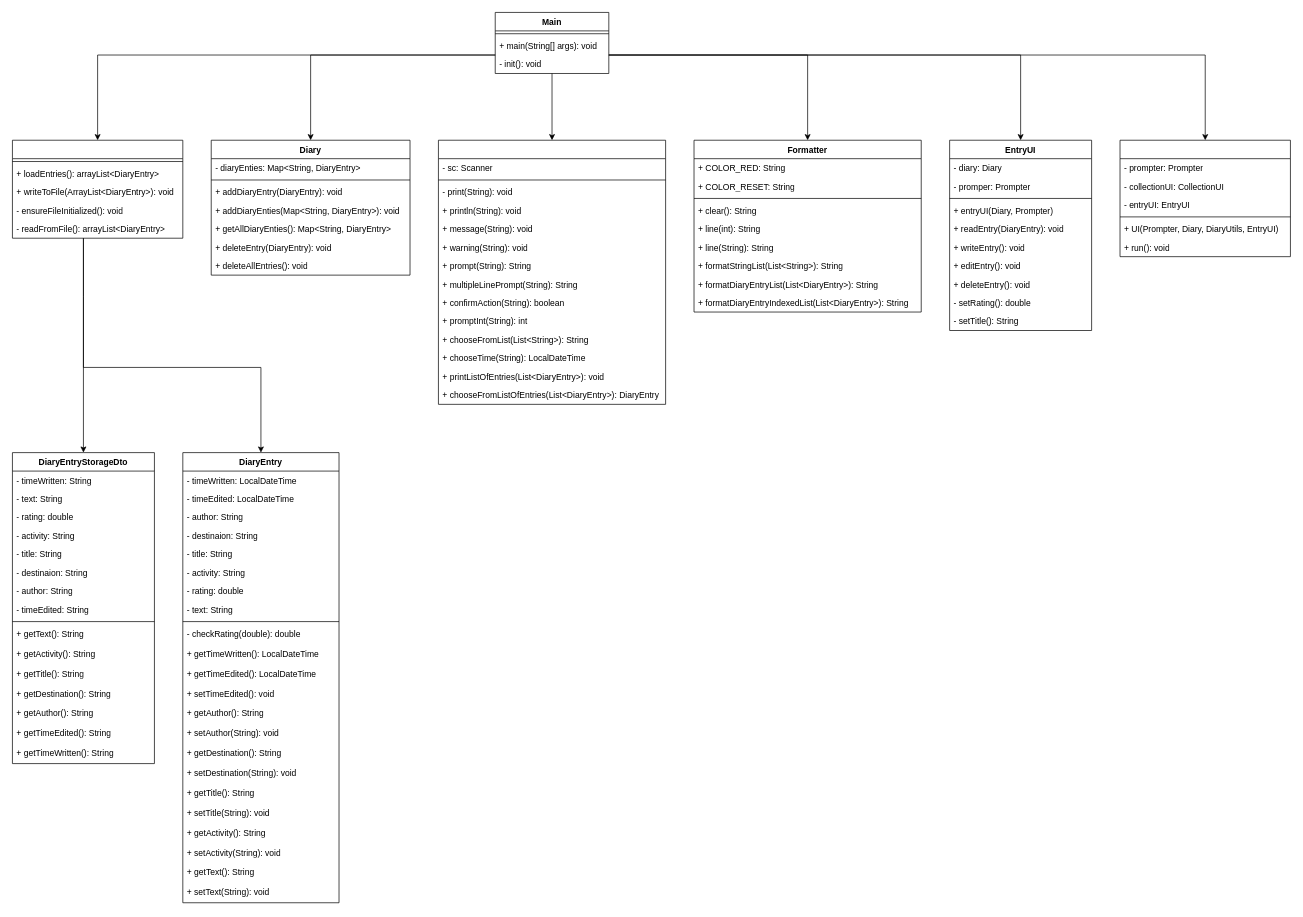
Image size: 1303x917. Some labels were removed from this diagram. Here are the shapes that lost their labels. From the top down, the box of each, then its label:
(12, 140, 183, 238): DiaryStorage
(1119, 140, 1290, 257): UI
(438, 140, 666, 404): Prompter
